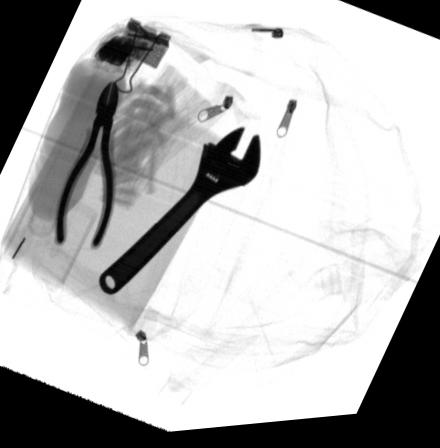Pliers: (52, 81, 119, 253)
Wrench: (97, 131, 261, 296)
